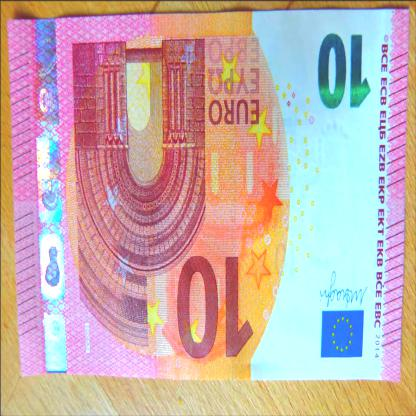euro_banknote: (11, 13, 414, 388)
